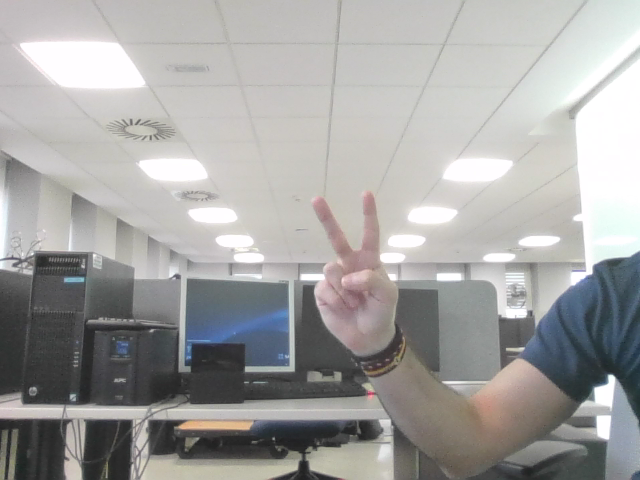2Dedos: (321, 204, 384, 312)
